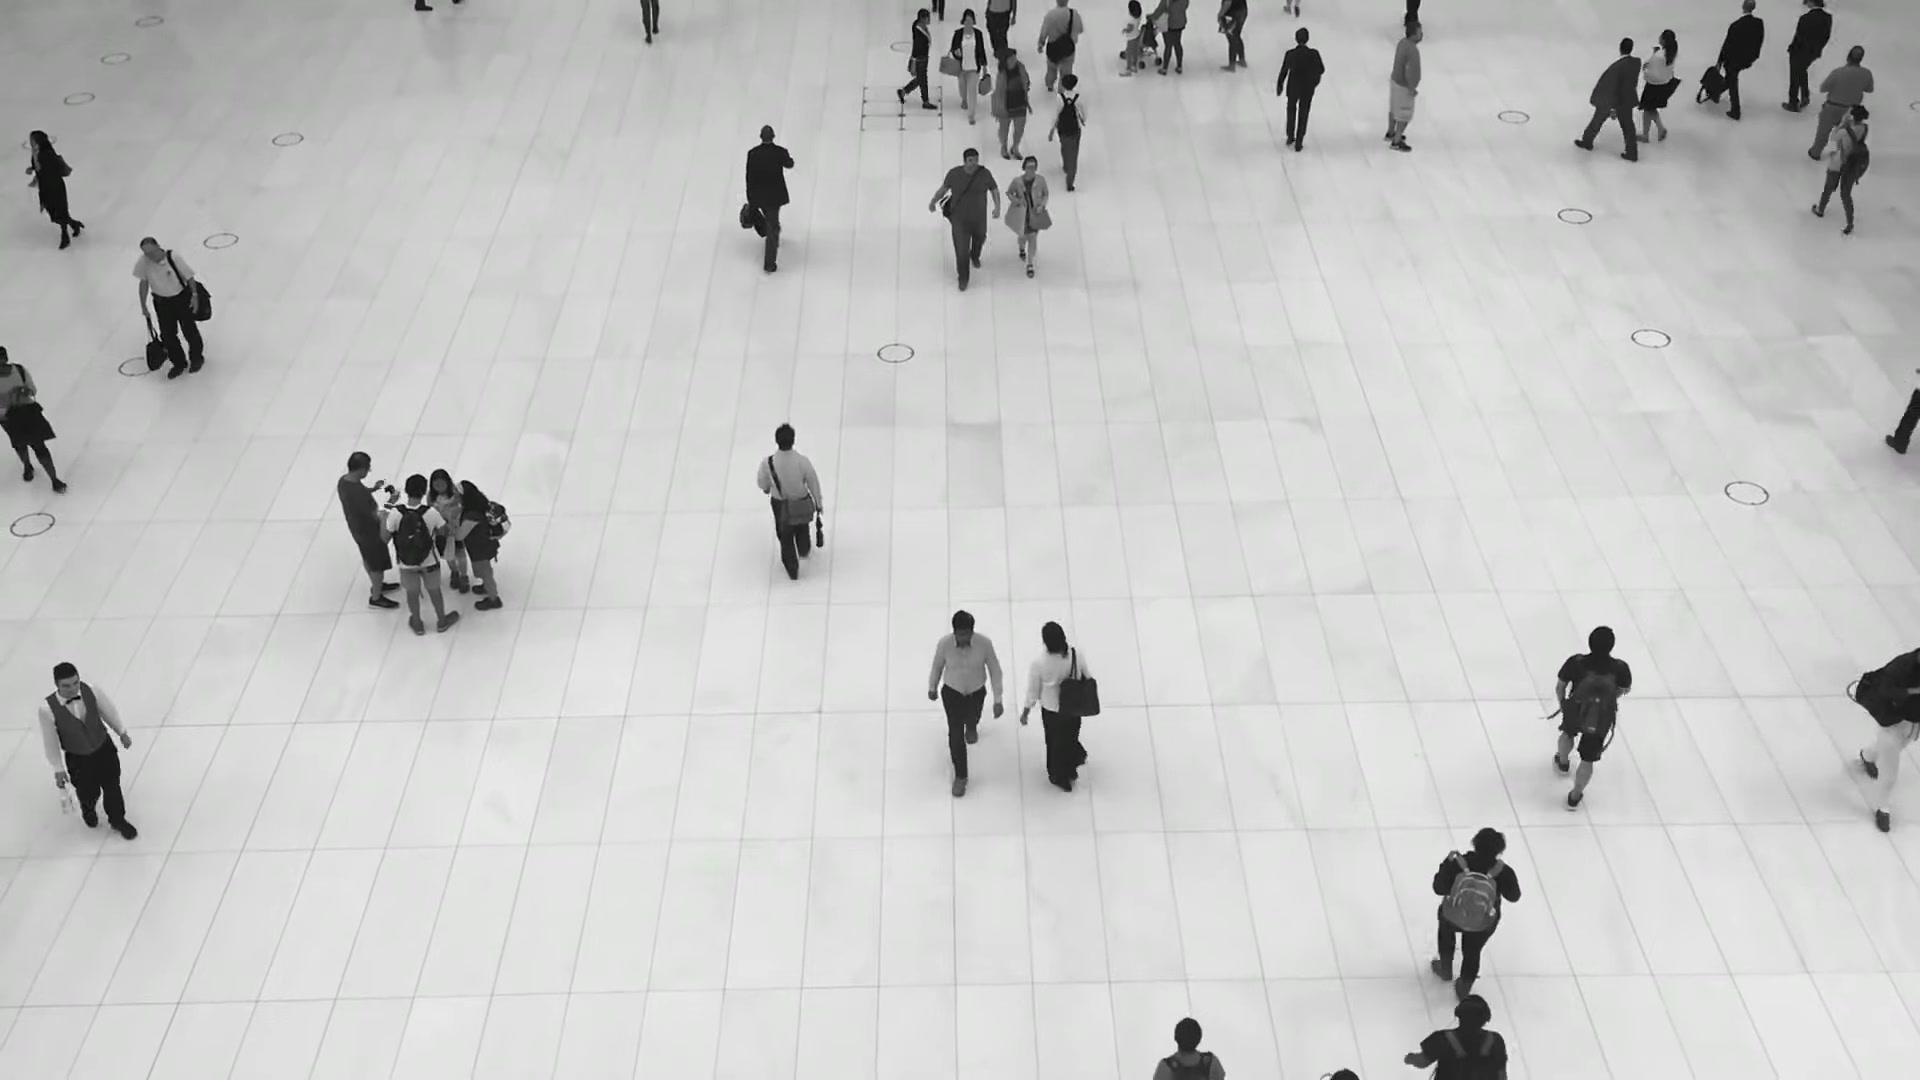person: (39, 662, 144, 847), (1553, 628, 1632, 821), (1429, 828, 1519, 993), (1016, 619, 1091, 798), (929, 607, 1002, 786), (380, 477, 460, 635), (1856, 643, 1920, 832), (757, 423, 825, 588), (131, 239, 206, 386), (336, 450, 402, 609), (929, 146, 1001, 287), (0, 347, 63, 497), (1410, 989, 1508, 1080), (1811, 41, 1875, 165), (1810, 103, 1871, 234), (743, 121, 797, 266), (452, 479, 505, 611), (1585, 35, 1641, 157), (1708, 1, 1764, 117), (26, 129, 80, 250), (1274, 30, 1324, 159), (1777, 1, 1832, 118), (1382, 22, 1427, 154), (1630, 29, 1679, 148), (424, 468, 469, 591), (1006, 154, 1050, 276), (989, 48, 1030, 163), (1048, 69, 1088, 185), (1037, 0, 1084, 95), (949, 6, 987, 120), (908, 9, 940, 110), (1117, 0, 1142, 77)
